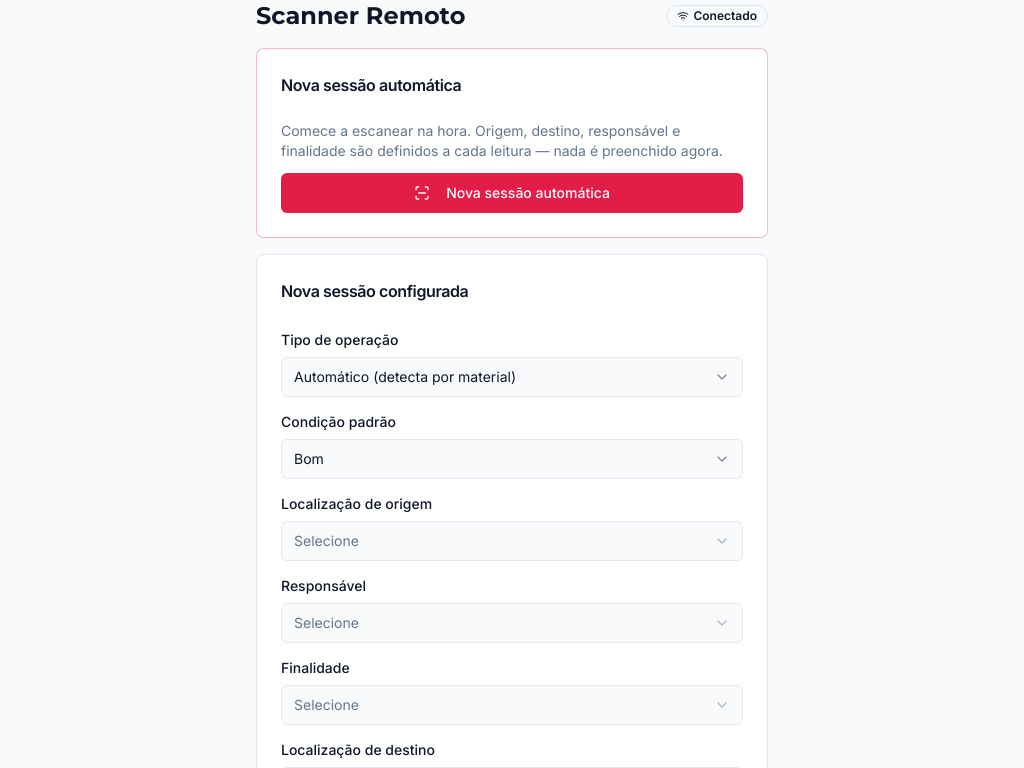
Test case: ScannerRemoto - E4: leitura read-only na sessão automática › material por quantidade com 2+ custódias reutiliza o CheckinOriginDialog existente
Click the button "Nova sessão automática" at (512, 193), box [281,173,743,213]
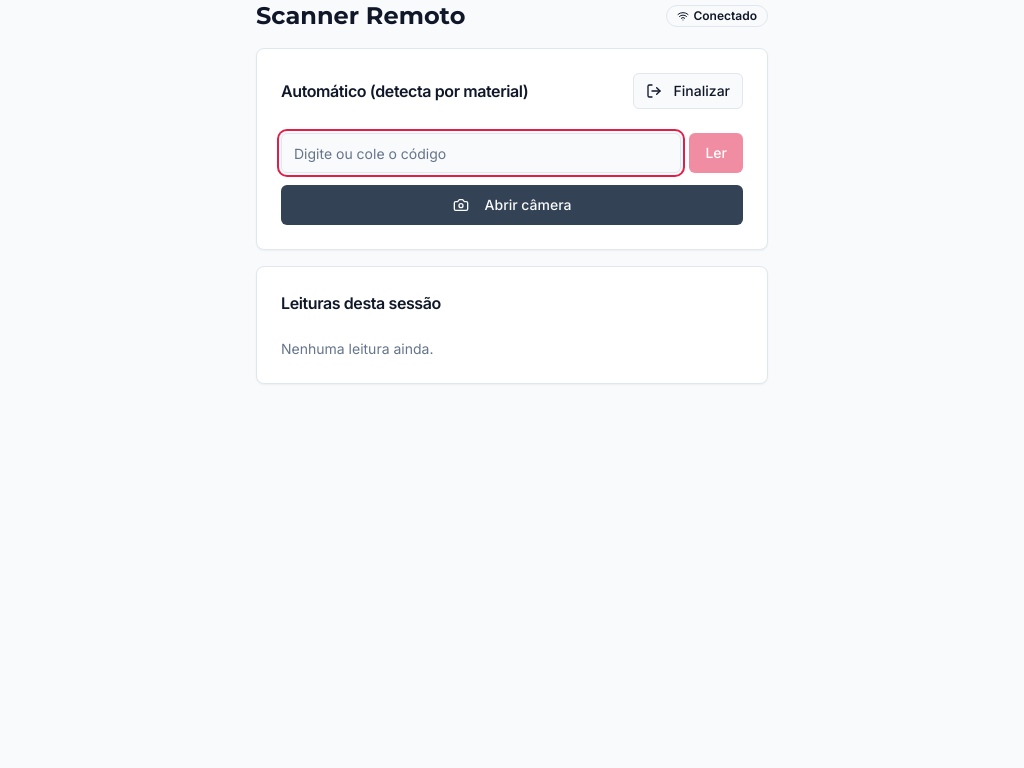
Type "NEO-210" into the field with placeholder "Digite ou cole o código" at (481, 153), box [281,133,681,173]
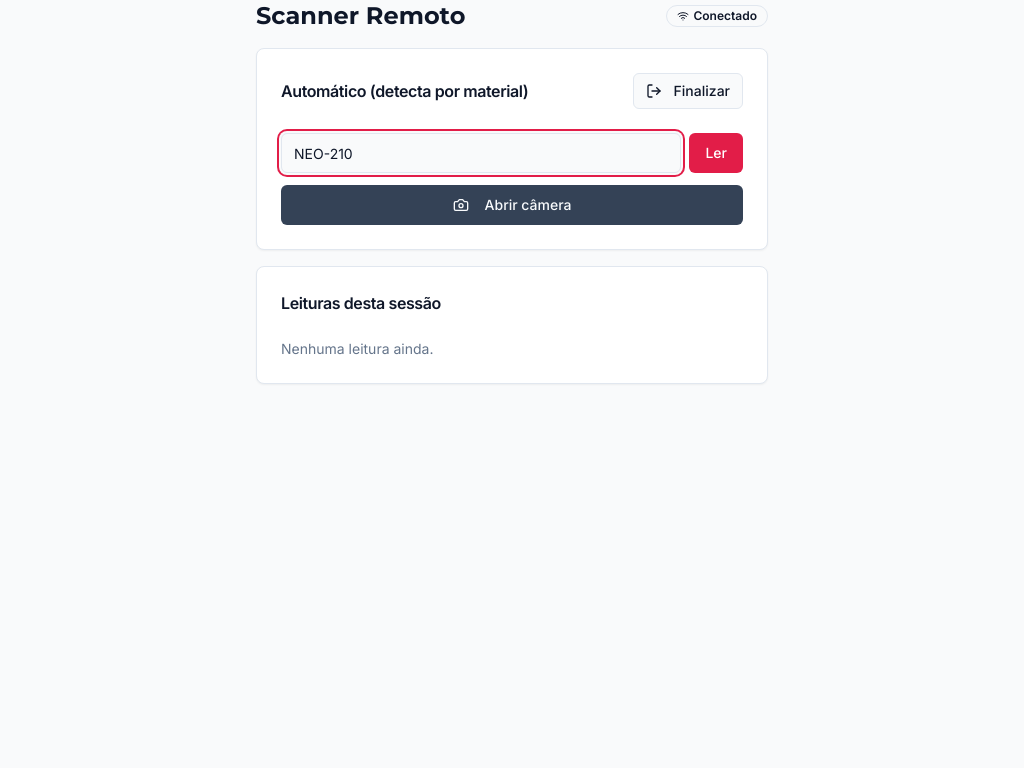
Click the button "Ler" at (716, 153), box [689,133,743,173]
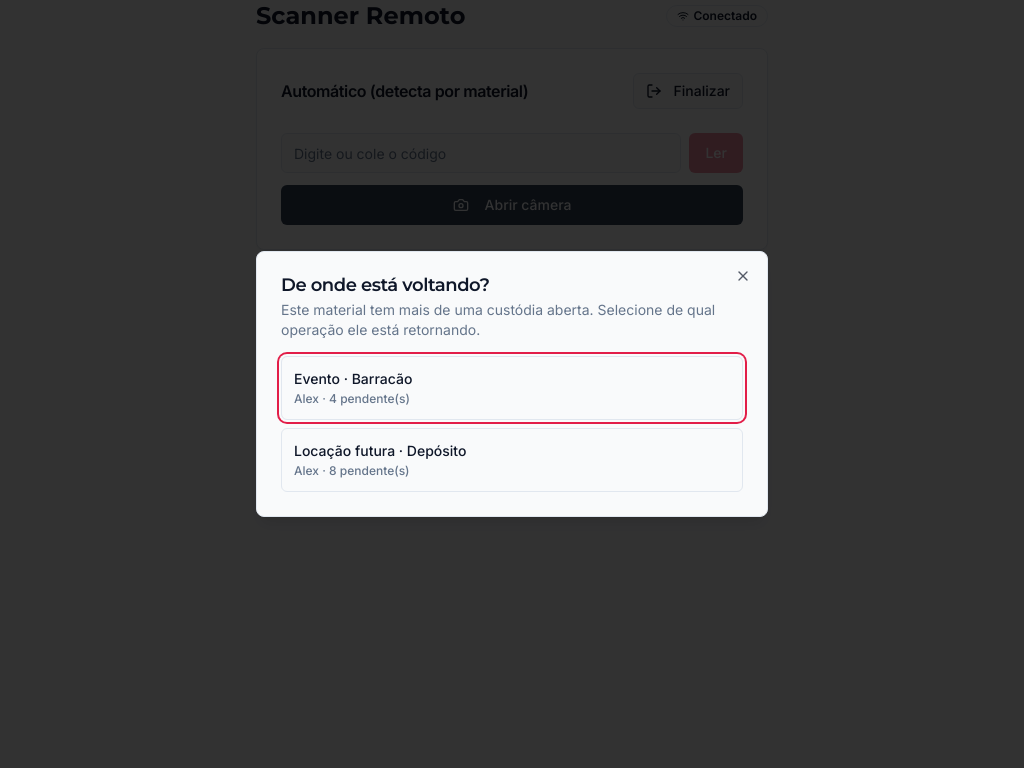
Expected: the heading "De onde está voltando?" is shown, [281,274,490,296]
Click the text "Locação futura · Depósito" at (380, 451), box [294,441,466,461]
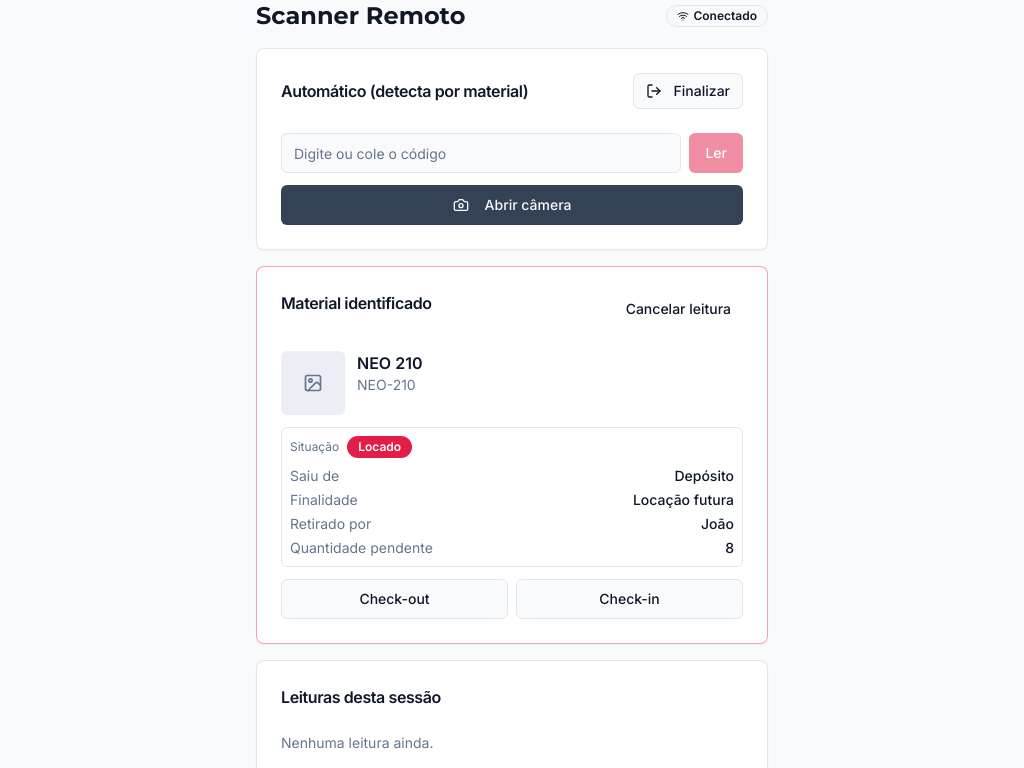
Expected: the text "Material identificado" is shown, [281,291,432,315]
Expected: the text "Locado" is shown, [347,436,412,458]
